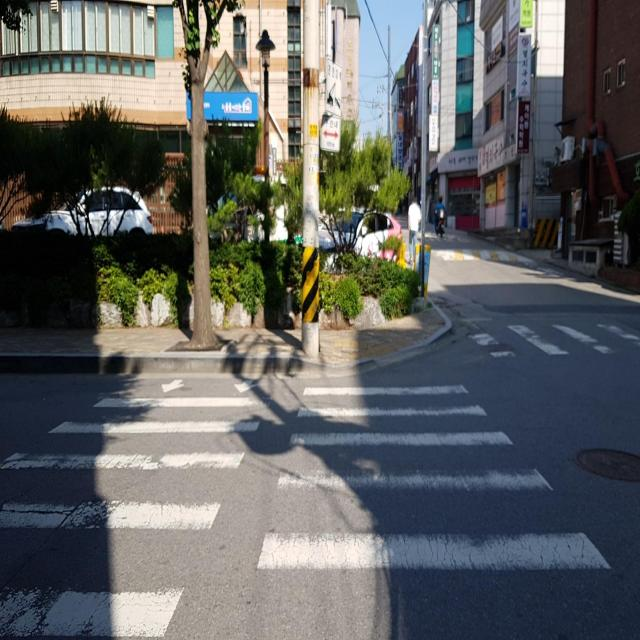횡단보도: (0, 371, 615, 640), (462, 322, 640, 359)
